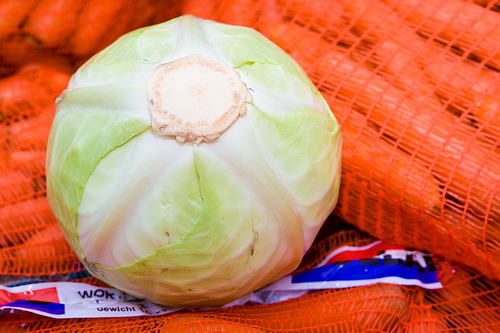cabbage: (46, 16, 342, 308)
